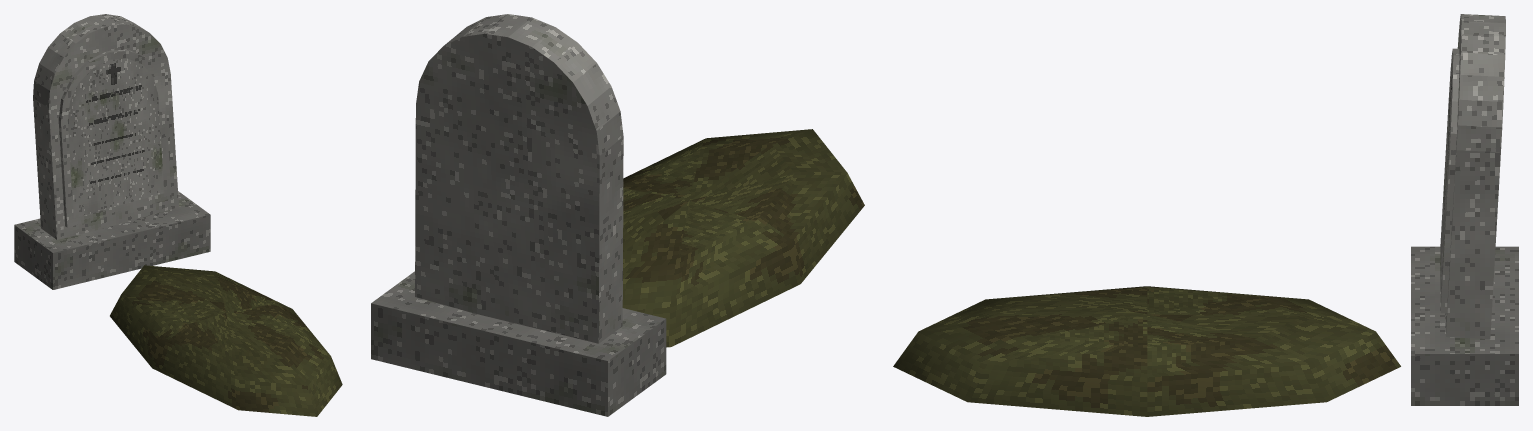
Rendered from grave_a.glb.
The picture shows the model from 3 angles, left to right: view 1: azimuth 30°, elevation 25°; view 2: azimuth 150°, elevation 25°; view 3: azimuth 270°, elevation 25°; orthographic projection. The views are drawn at different scales.
Visible parts, largest first — view 1: stone-col, detail; view 2: stone-col, detail; view 3: detail, stone-col.
Part boxes in pixels (x1,y1,x2,y2): stone-col: (14, 14, 210, 289); detail: (110, 265, 342, 416); stone-col: (371, 14, 666, 416); detail: (622, 129, 864, 347); detail: (893, 286, 1400, 416); stone-col: (1411, 14, 1518, 405).
Bounding box in the file's own units: 0.8 × 1.18 × 1.97.
4 materials, 4 textured.
